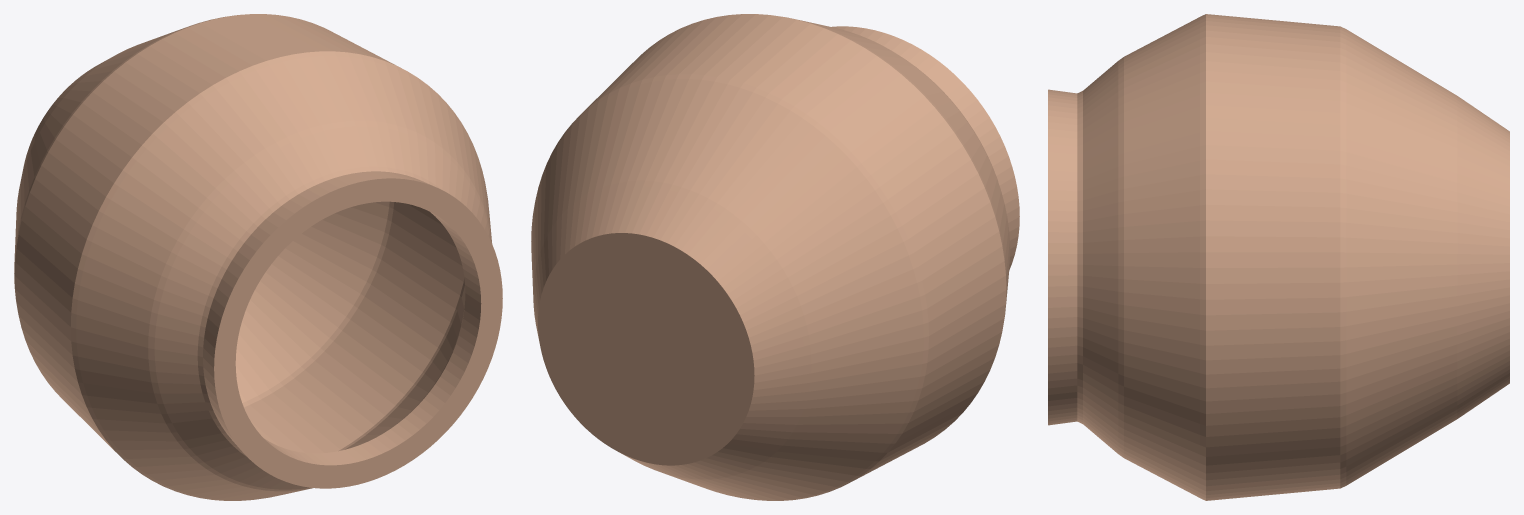
The model's file is Pot_06_Rustic_Jar.glb.
3 views of the same model, side by side, from view 1: azimuth 30°, elevation 25°; view 2: azimuth 150°, elevation 25°; view 3: azimuth 270°, elevation 25° (orthographic).
Parts seen in each view (by area): view 1: Pot_06_Rustic_Jar; view 2: Pot_06_Rustic_Jar; view 3: Pot_06_Rustic_Jar.
Part boxes in pixels (bbox=[...]): Pot_06_Rustic_Jar: bbox=[14, 14, 502, 500]; Pot_06_Rustic_Jar: bbox=[531, 14, 1019, 500]; Pot_06_Rustic_Jar: bbox=[1048, 14, 1509, 500].
Size of the model in its own units: 0.232 by 0.232 by 0.22.
